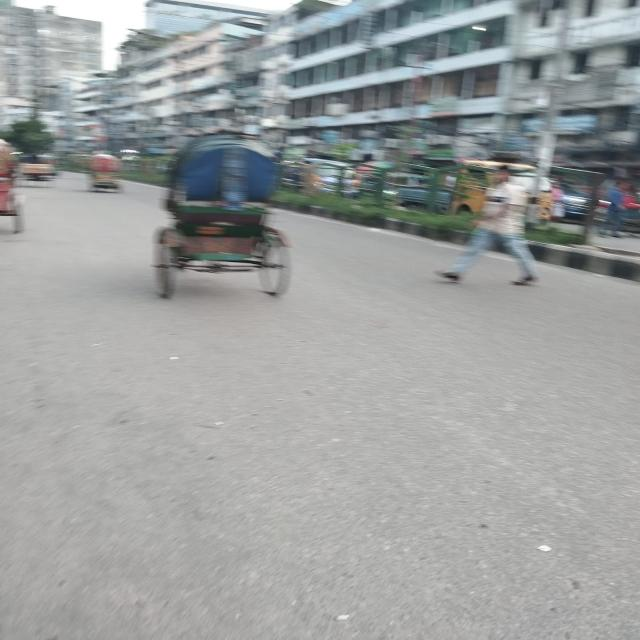person: (437, 165, 545, 288), (600, 180, 628, 238), (548, 180, 568, 222)
